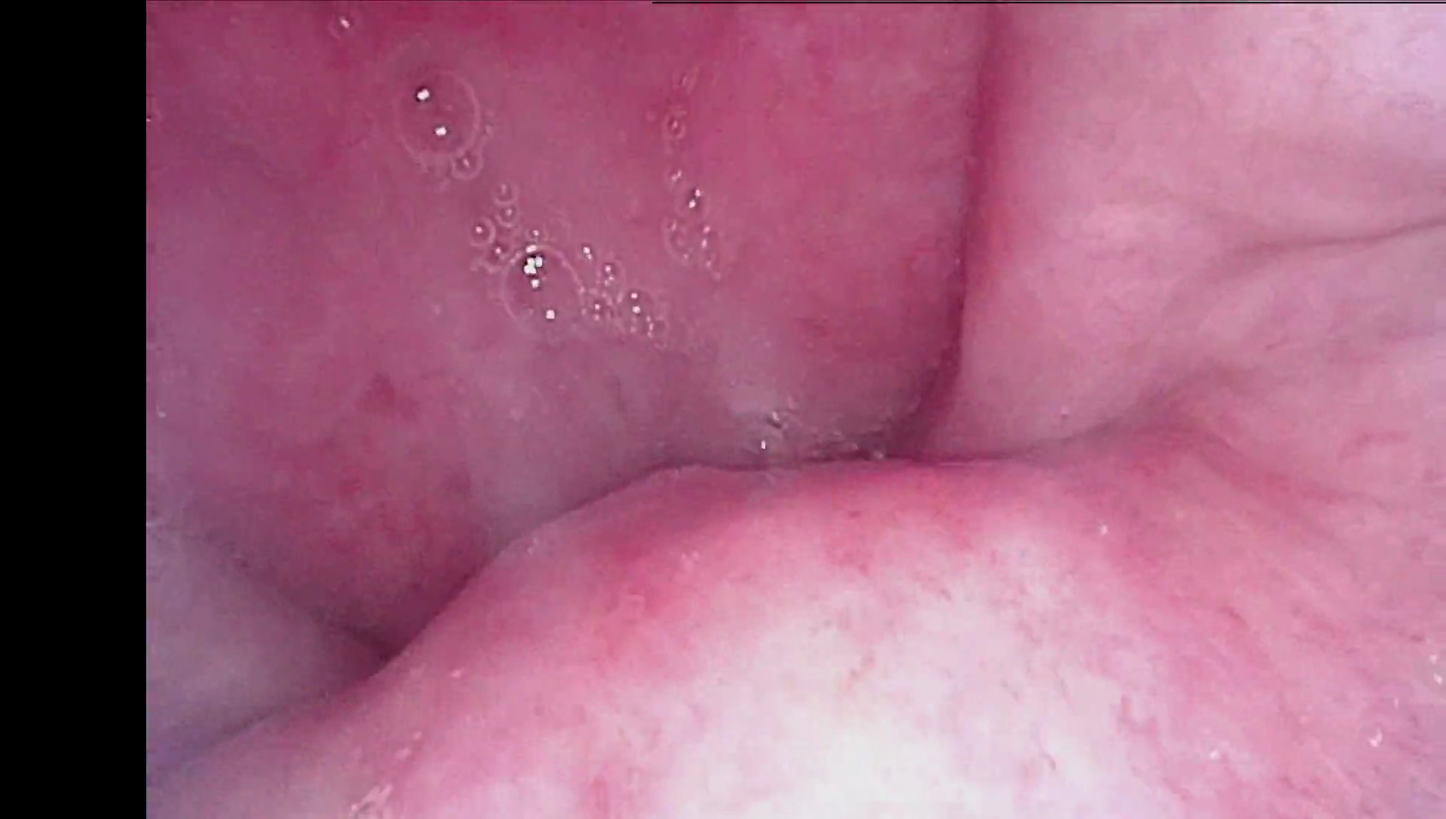close_wall: (389, 552, 1257, 819), (1162, 0, 1446, 196)
